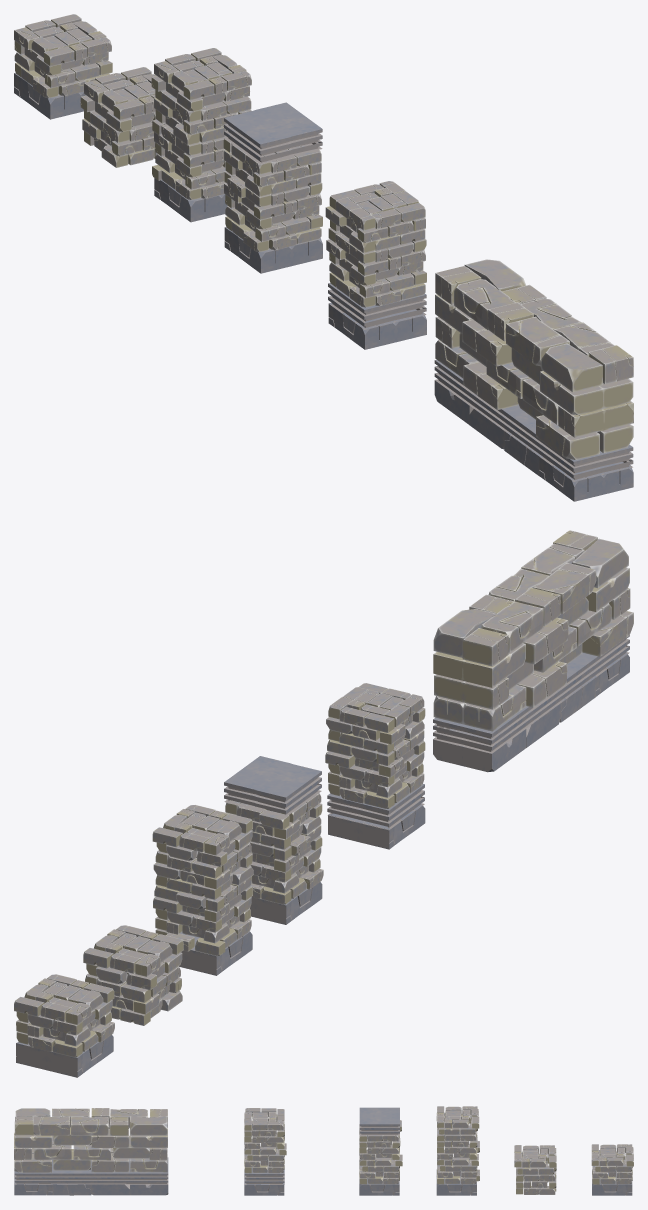
Rendered from WALL (2).fbx.
3 renders of one model, top to bottom at view 1: azimuth 30°, elevation 25°; view 2: azimuth 150°, elevation 25°; view 3: azimuth 270°, elevation 25°, orthographic. The views are drawn at different scales.
Parts seen in each view (by area): view 1: Cube.004, Cube.217, Cube.086, Cube.299, Cube.429, Cube.014; view 2: Cube.004, Cube.086, Cube.299, Cube.217, Cube.429, Cube.014; view 3: Cube.004, Cube.299, Cube.217, Cube.086, Cube.429, Cube.014.
Boxes of the visible parts, x1,y1,x2,y2 form: Cube.004: (434,259,633,501); Cube.217: (223,102,322,273); Cube.086: (325,181,426,349); Cube.299: (151,48,251,222); Cube.429: (14,14,112,119); Cube.014: (80,67,157,167); Cube.004: (433,530,633,772); Cube.086: (325,683,425,849); Cube.299: (152,805,253,975); Cube.217: (224,756,323,924); Cube.429: (14,974,114,1077); Cube.014: (83,925,183,1025); Cube.004: (14,1108,168,1195); Cube.299: (436,1106,479,1195); Cube.217: (359,1107,402,1195); Cube.086: (244,1108,286,1195); Cube.429: (591,1144,633,1195); Cube.014: (514,1145,556,1194).
Size of the model in its own units: 116 by 210 by 1608.
